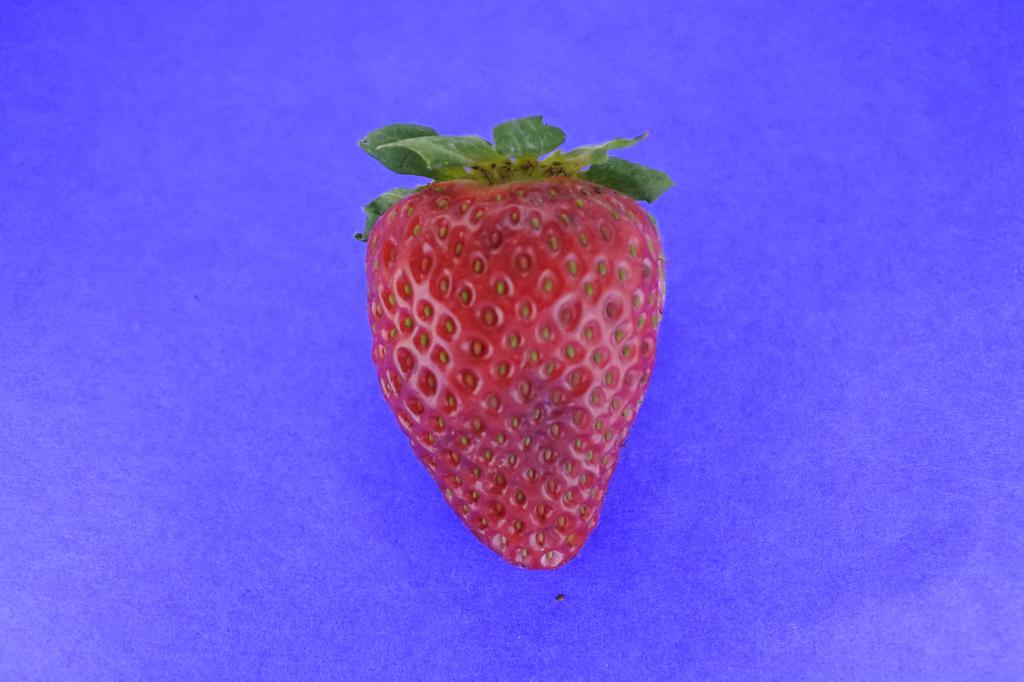red strawberry: (355, 116, 668, 575)
